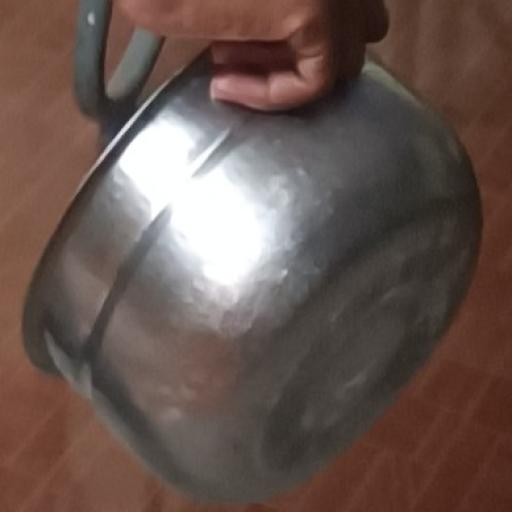vessel: (24, 54, 478, 499)
